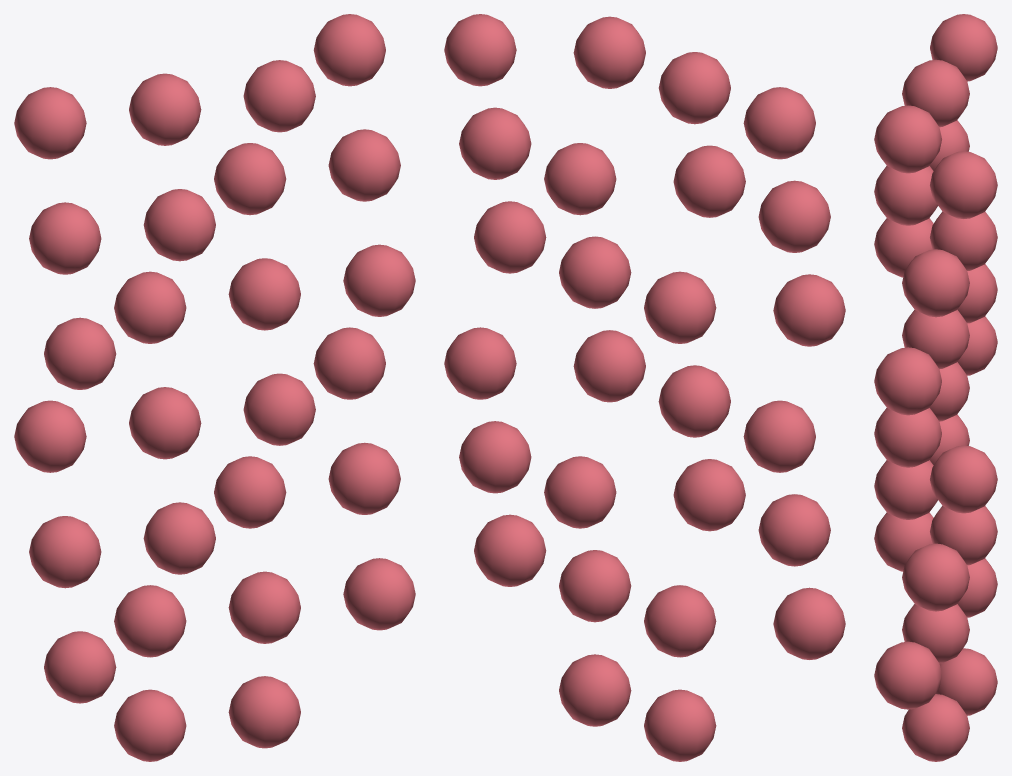
The model's file is heart.glb.
3 renders of one model, left to right at view 1: azimuth 30°, elevation 25°; view 2: azimuth 150°, elevation 25°; view 3: azimuth 270°, elevation 25°, orthographic. The views are drawn at different scales.
Visible parts, largest first — view 1: atrioventricular_node, mitral_valve, right_atrium, myocardium, bundle_of_his, interventricular_septum, inferior_vena_cava, pulmonary_arteries, cardiac_veins, epicardium, left_atrium, tricuspid_valve (+14 smaller); view 2: pericardium, mitral_valve, pulmonary_trunk, pulmonary_veins, purkinje_fibers, aortic_valve, aorta, aortic_arch, coronary_arteries, left_ventricle, tricuspid_valve, cardiac_veins (+14 smaller); view 3: aortic_arch, left_atrium, pulmonary_trunk, mitral_valve, endocardium, atrioventricular_node, left_ventricle, purkinje_fibers, right_atrium, right_ventricle, aorta, cardiac_veins (+14 smaller).
Part boxes in pixels (x1,y1,x2,y2): atrioventricular_node: [343, 558, 415, 630]; mitral_valve: [328, 129, 400, 201]; right_atrium: [14, 87, 86, 159]; myocardium: [44, 631, 116, 703]; bundle_of_his: [114, 689, 186, 761]; interventricular_septum: [29, 202, 101, 274]; inferior_vena_cava: [228, 258, 300, 330]; pulmonary_arteries: [14, 400, 86, 472]; cardiac_veins: [143, 502, 215, 574]; epicardium: [114, 585, 186, 657]; left_atrium: [243, 60, 315, 132]; tricuspid_valve: [143, 189, 215, 261]; pericardium: [544, 456, 616, 528]; mitral_valve: [459, 107, 531, 179]; pulmonary_trunk: [474, 201, 546, 273]; pulmonary_veins: [658, 365, 730, 437]; purkinje_fibers: [559, 654, 631, 726]; aortic_valve: [773, 274, 845, 346]; aorta: [573, 330, 645, 402]; aortic_arch: [444, 327, 516, 399]; coronary_arteries: [758, 494, 830, 566]; left_ventricle: [444, 14, 516, 86]; tricuspid_valve: [673, 145, 745, 217]; cardiac_veins: [673, 459, 745, 531]; aortic_arch: [930, 445, 997, 513]; left_atrium: [874, 105, 941, 173]; pulmonary_trunk: [874, 347, 941, 415]; mitral_valve: [902, 249, 969, 317]; endocardium: [902, 543, 969, 611]; atrioventricular_node: [874, 641, 941, 709]; left_ventricle: [930, 151, 997, 218]; purkinje_fibers: [902, 694, 969, 761]; right_atrium: [930, 14, 997, 81]; right_ventricle: [902, 59, 969, 127]; aorta: [874, 408, 941, 467]; cardiac_veins: [874, 460, 937, 519].
Bounding box in the file's own units: 2.54 × 4.64 × 0.8.
